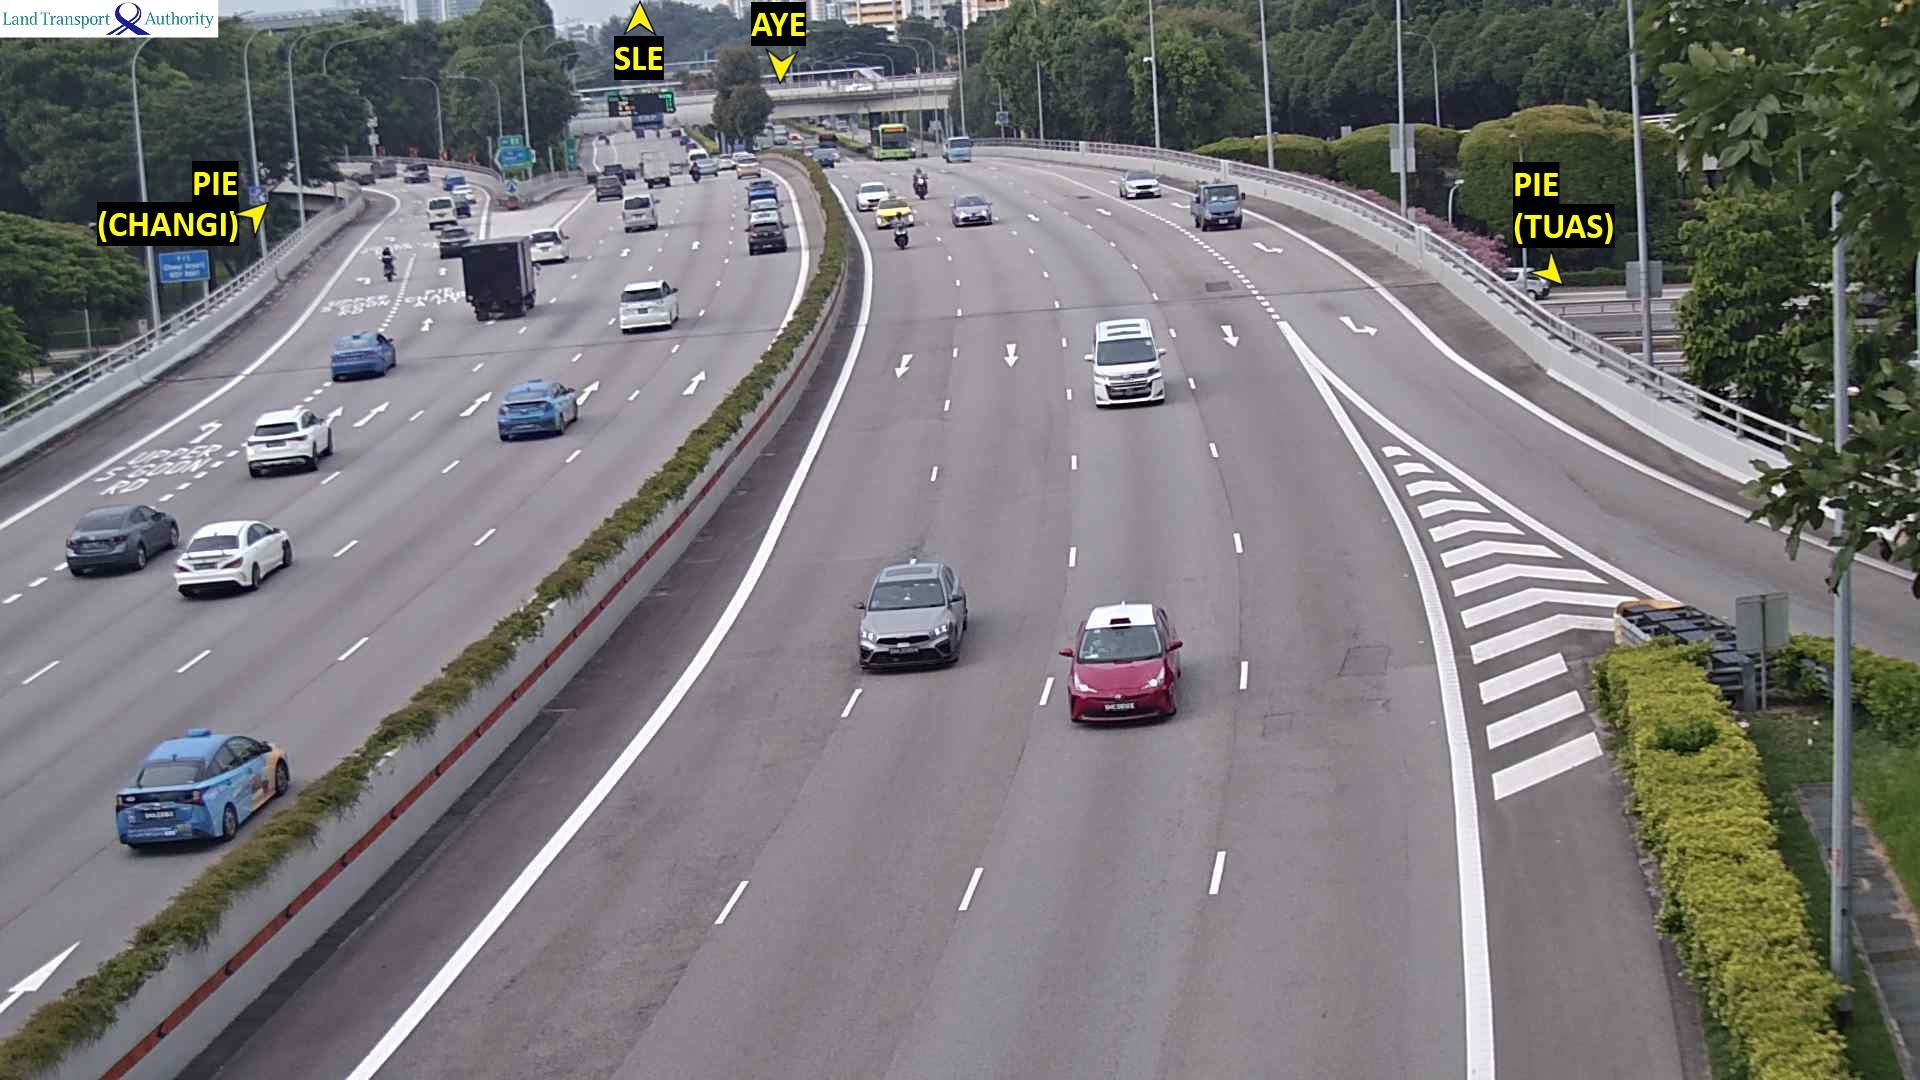bus: (870, 122, 915, 160), (817, 131, 840, 151)
cars: (114, 726, 290, 849), (1058, 600, 1182, 725), (854, 557, 967, 670), (172, 518, 293, 598), (64, 503, 178, 576), (1083, 316, 1166, 407), (243, 404, 334, 477), (496, 377, 578, 441), (329, 328, 396, 381), (617, 278, 679, 333), (1190, 180, 1244, 230), (1498, 266, 1549, 299), (745, 213, 786, 254), (527, 227, 569, 263), (950, 192, 993, 226), (620, 192, 657, 231), (873, 195, 915, 229), (1117, 168, 1162, 199), (436, 225, 473, 258), (639, 151, 671, 187), (855, 180, 891, 211), (426, 195, 457, 229), (745, 179, 778, 206), (688, 152, 718, 180), (942, 135, 973, 162), (594, 172, 622, 200), (735, 152, 763, 180), (602, 161, 628, 188), (811, 143, 840, 167), (448, 193, 472, 219), (403, 160, 429, 183), (451, 182, 477, 204), (347, 168, 377, 187), (371, 155, 396, 177), (441, 170, 466, 190), (616, 161, 637, 182), (713, 152, 732, 172), (666, 159, 685, 178), (833, 117, 852, 132), (772, 132, 789, 147), (633, 126, 649, 141), (678, 133, 693, 148), (684, 141, 701, 154), (669, 126, 683, 140), (596, 131, 610, 142), (788, 130, 802, 141)
motorcycle: (379, 245, 401, 285), (911, 165, 931, 203), (893, 222, 910, 249), (687, 160, 703, 186)
trucks: (459, 235, 535, 321)
